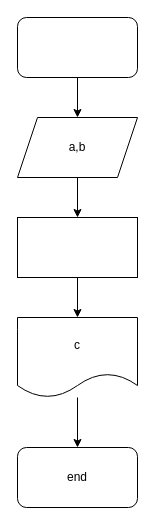
This 155x525 diagram has some shape labels left out. The shapes that lost their labels are listed below. From the top down, each one's centre as x and y in pixels, then its label:
the point at 77,47: start
the point at 77,247: c = a + b
